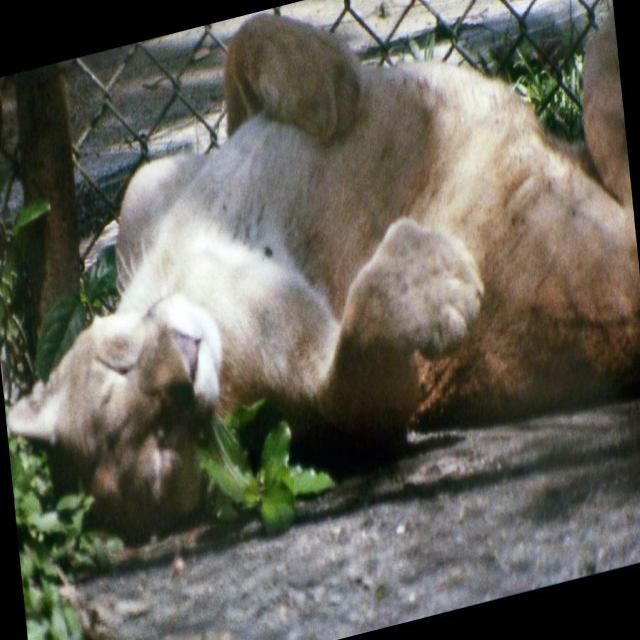Lion: (0, 0, 639, 571)
